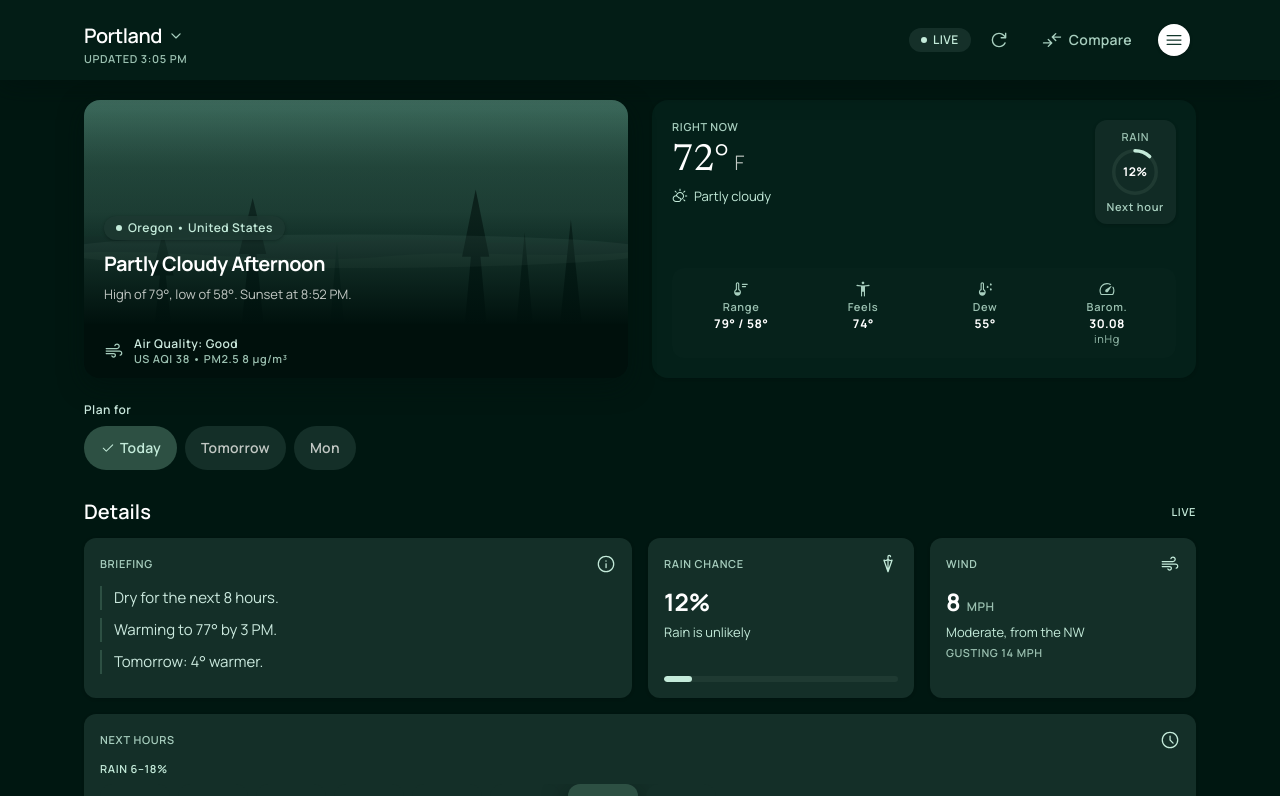
it: a failed refresh over a good reading › keeps the last good reading on screen and says it is stale
The width and height of the screenshot is (1280, 796).
Click the button named "refresh": {"x": 999, "y": 40} [977, 18, 1021, 62]
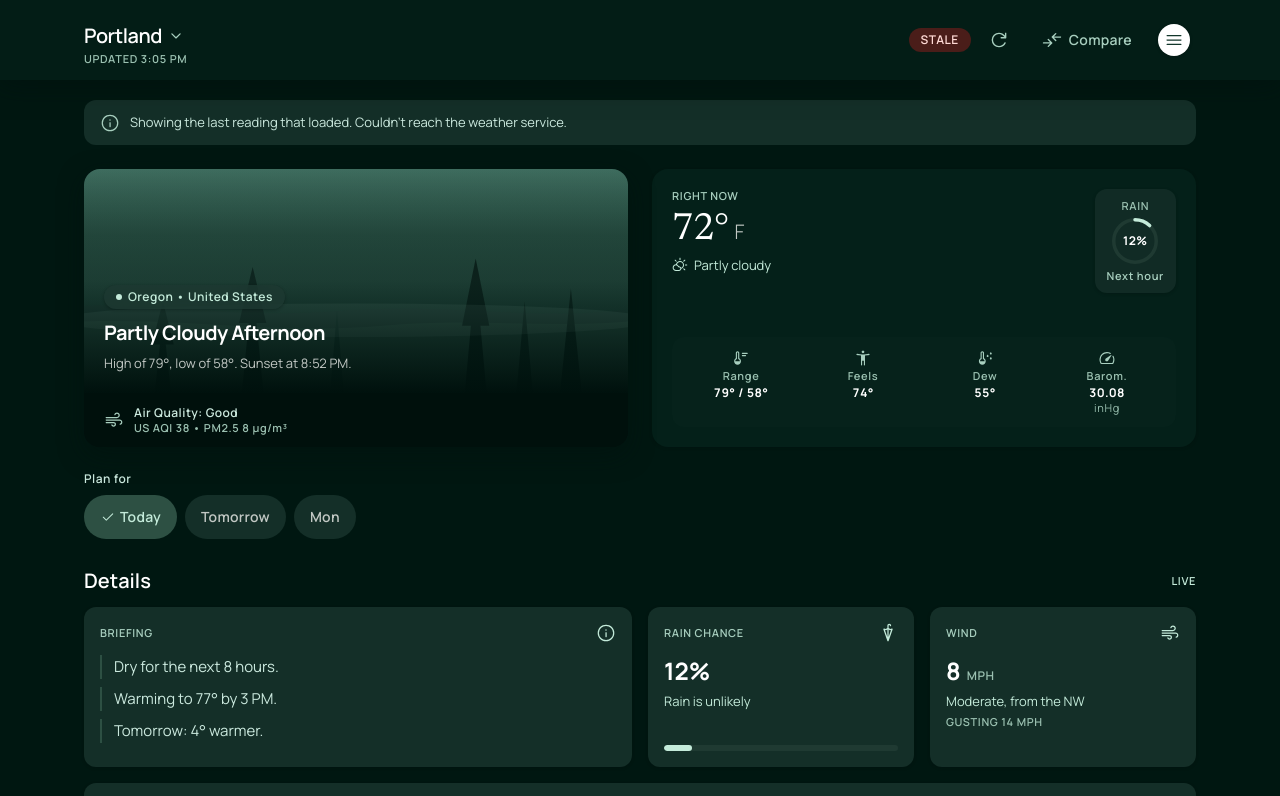
Expected: the text "Showing the last reading that loaded" is shown, [130, 113, 355, 131]
